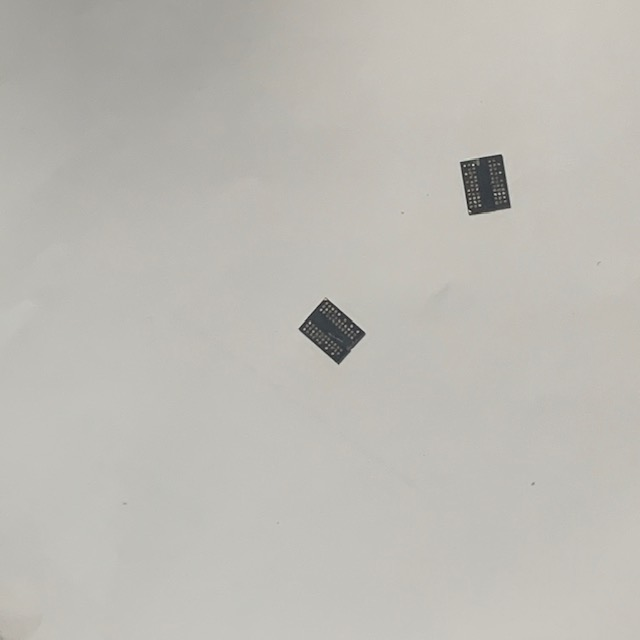IC: (296, 293, 369, 366), (455, 152, 515, 217)
